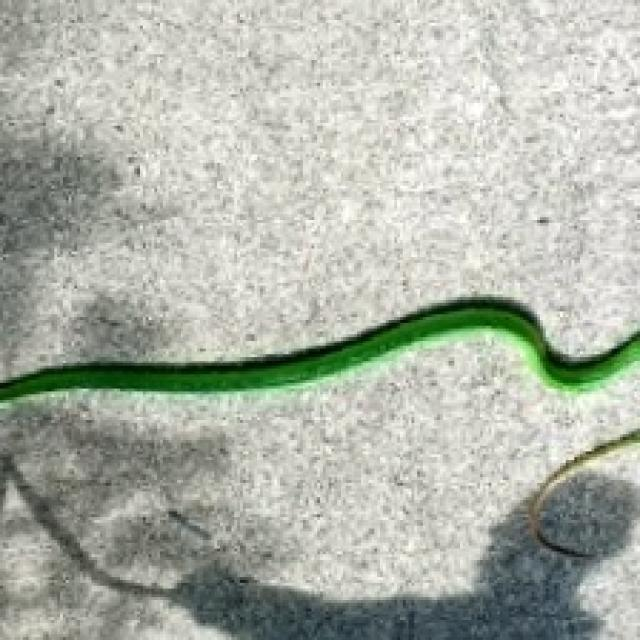red-tailed green ratsnake: (1, 299, 640, 402), (531, 430, 639, 556)
